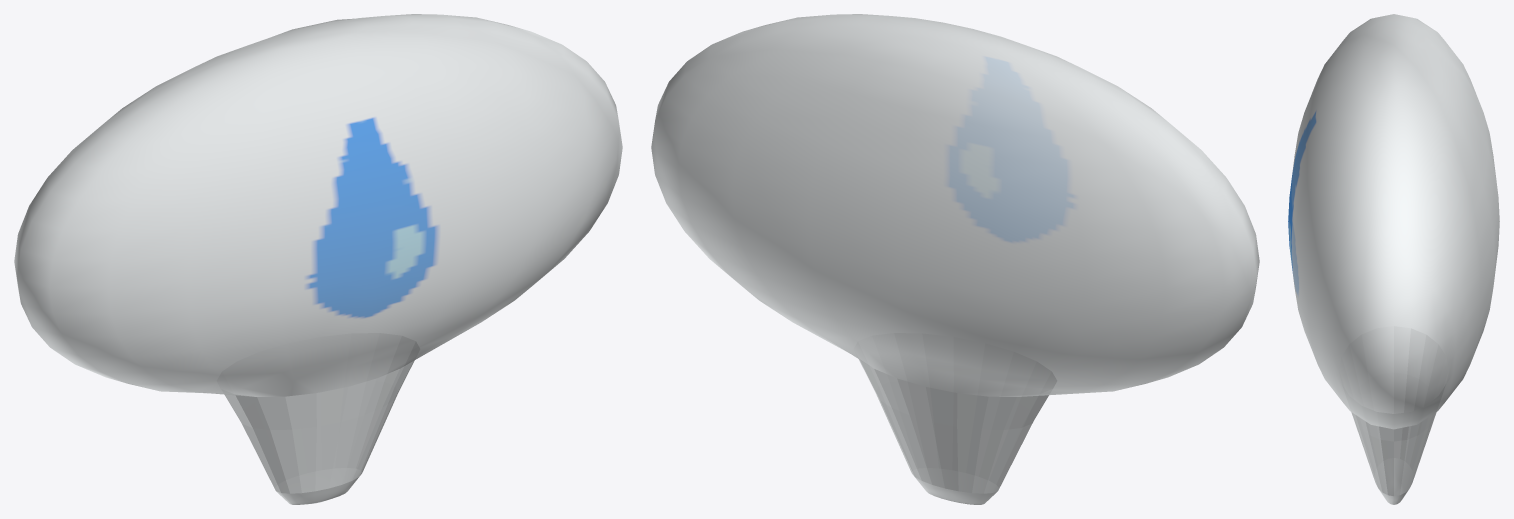
The model's file is waterIndicator.fbx.
3 views of the same model, side by side, from view 1: azimuth 30°, elevation 25°; view 2: azimuth 150°, elevation 25°; view 3: azimuth 270°, elevation 25° (orthographic). The views are drawn at different scales.
Visible parts, largest first — view 1: pSphere1; view 2: pSphere1; view 3: pSphere1.
Part boxes in pixels (x1,y1,x2,y2): pSphere1: [14, 14, 622, 504]; pSphere1: [651, 14, 1259, 504]; pSphere1: [1288, 14, 1499, 504].
Bounding box in the file's own units: 7.38 × 5.47 × 2.43.
Materials: 1 (1 with a texture image).
